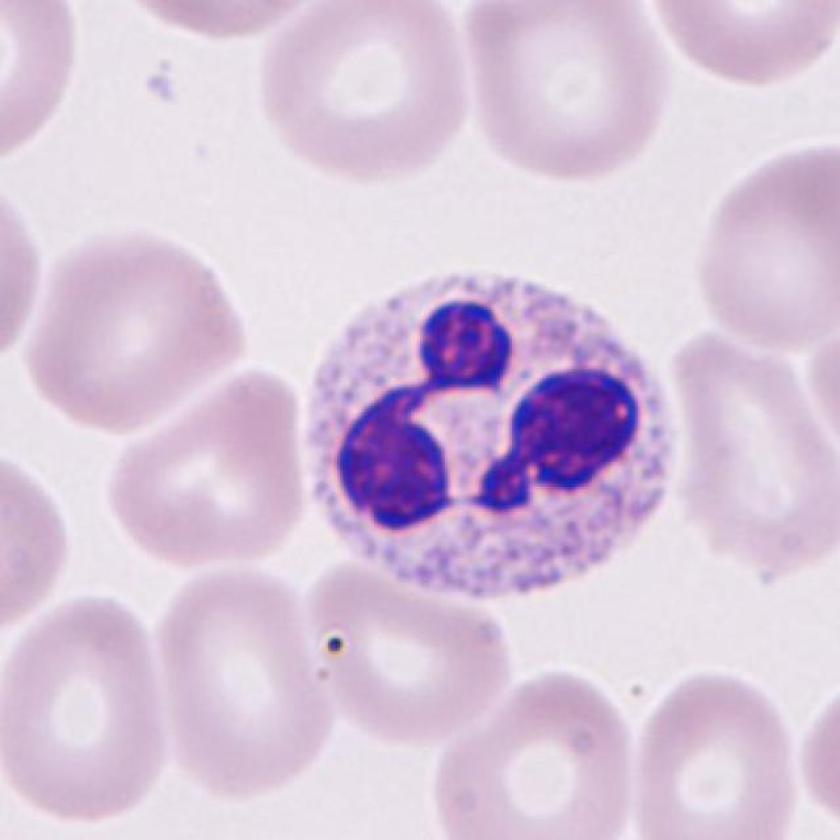neutrophil: (303, 269, 673, 598)
